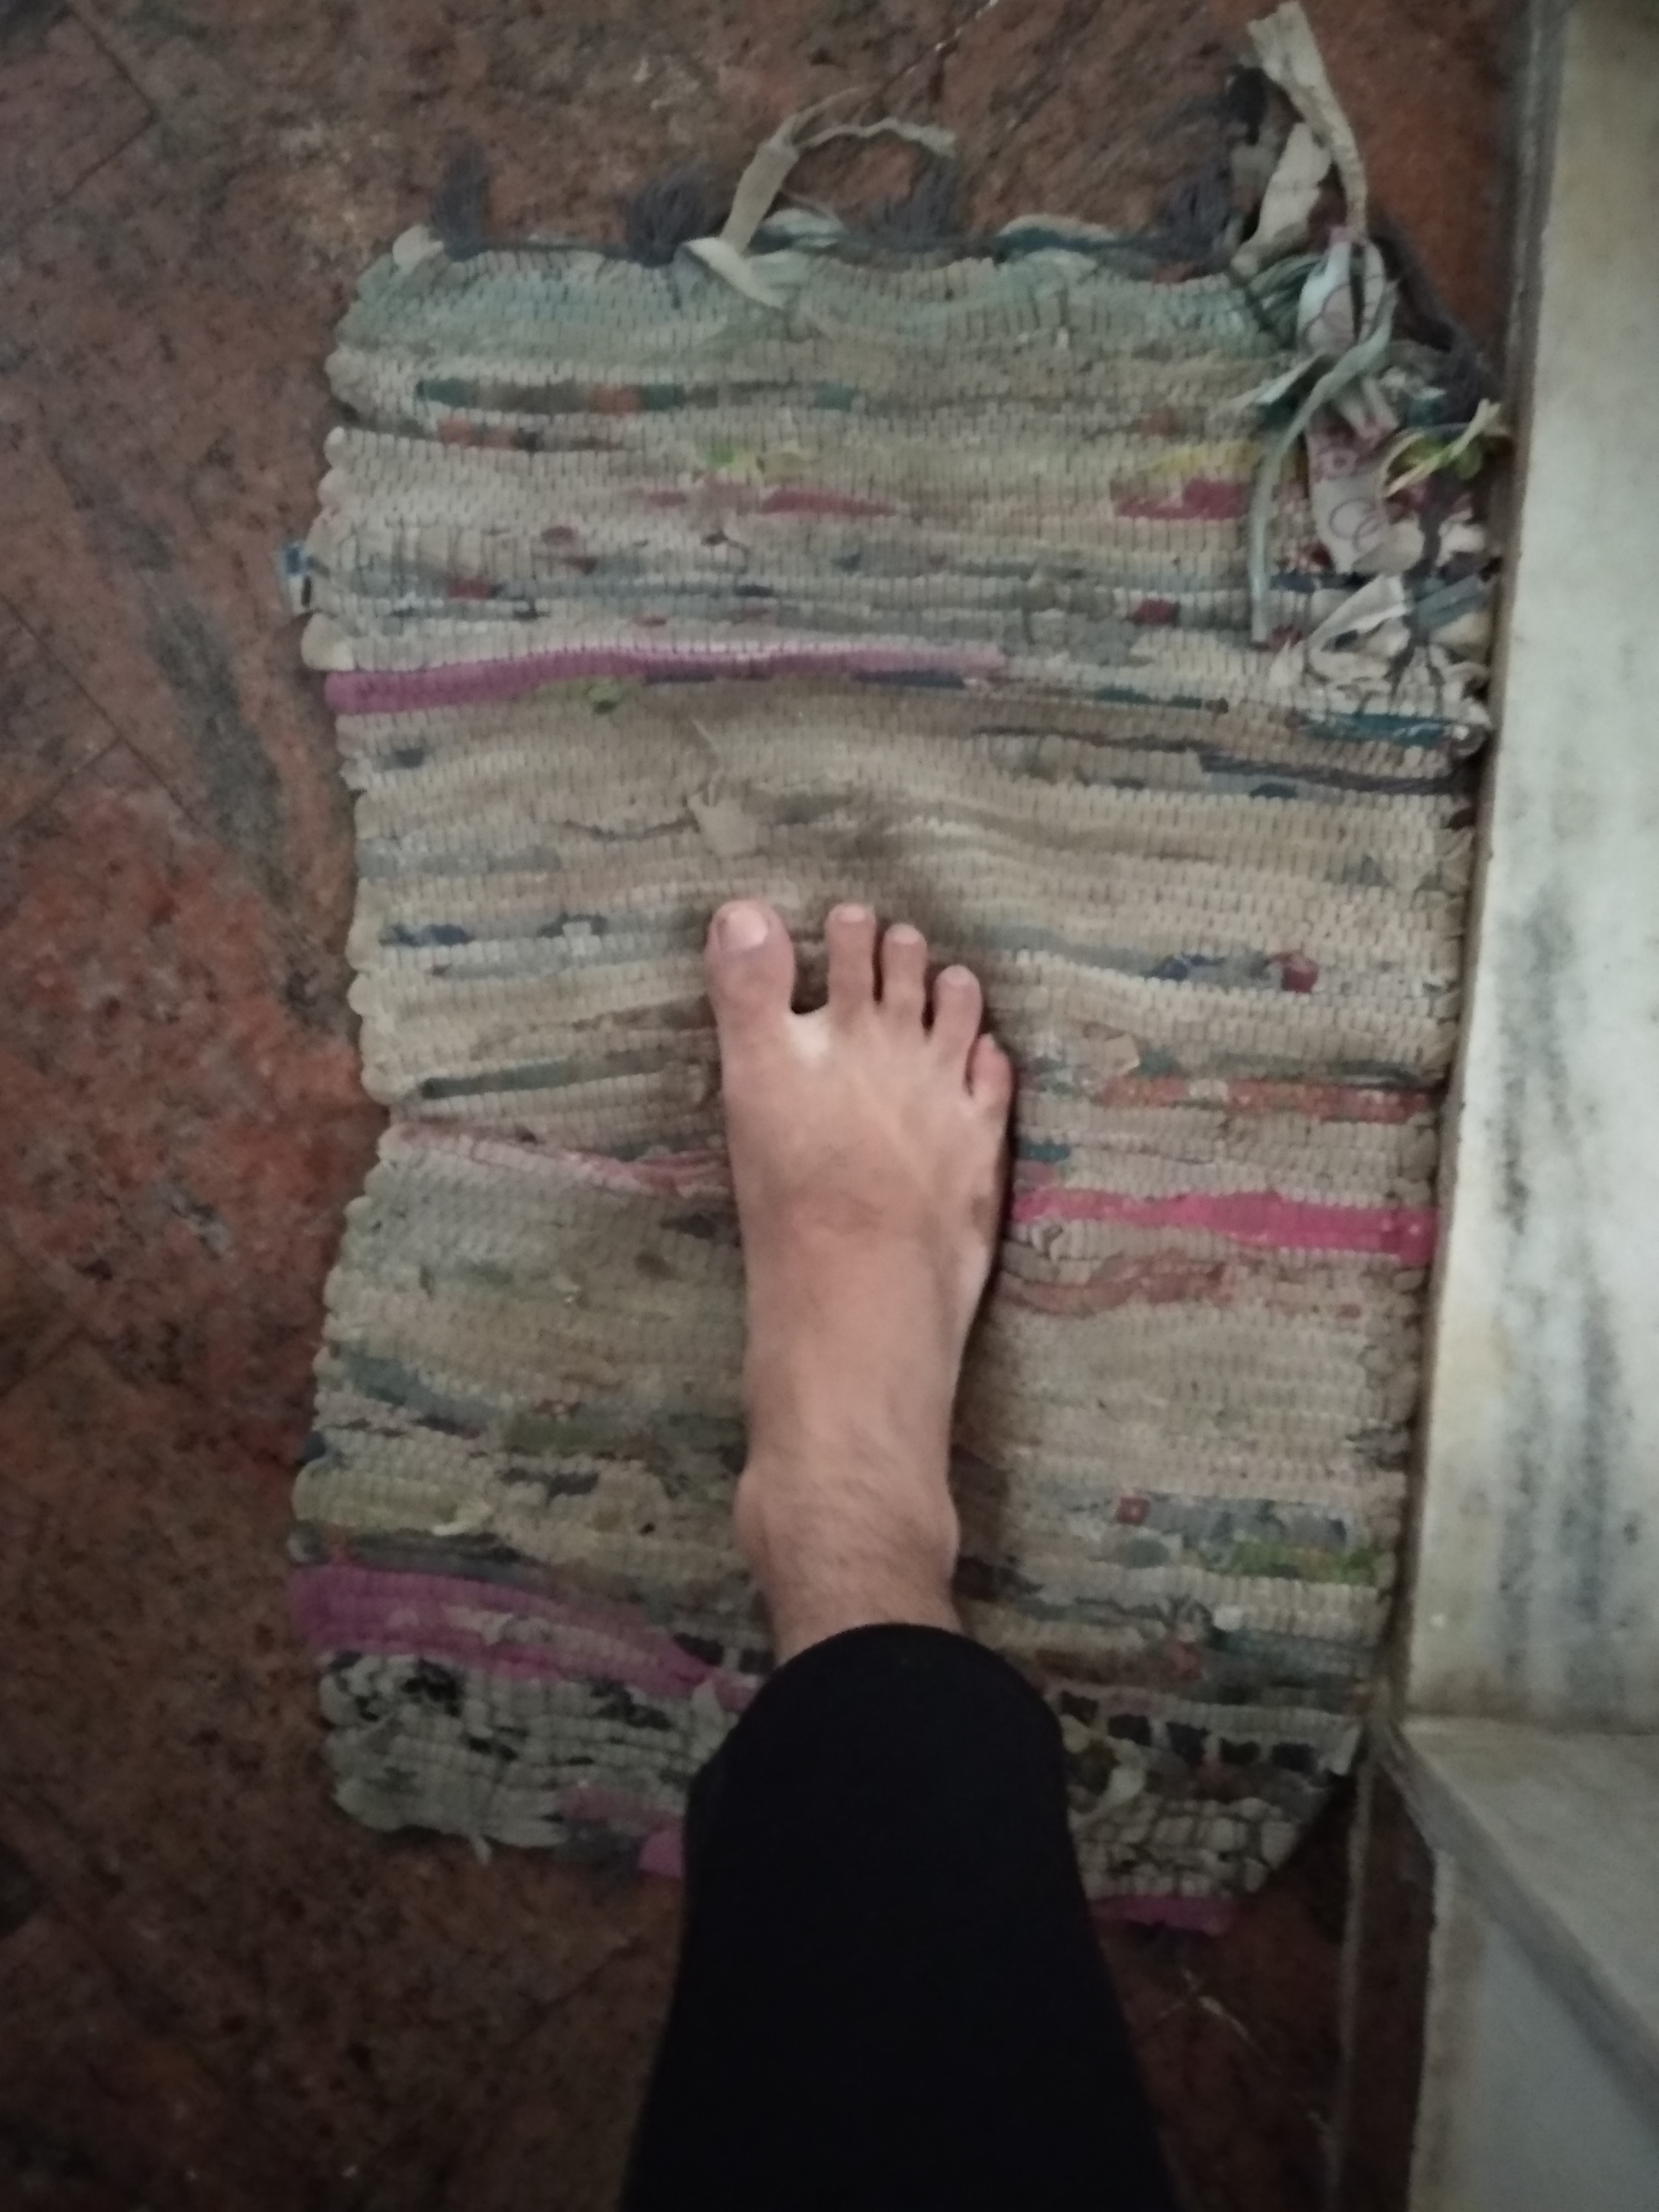feet: (662, 857, 1044, 1648)
